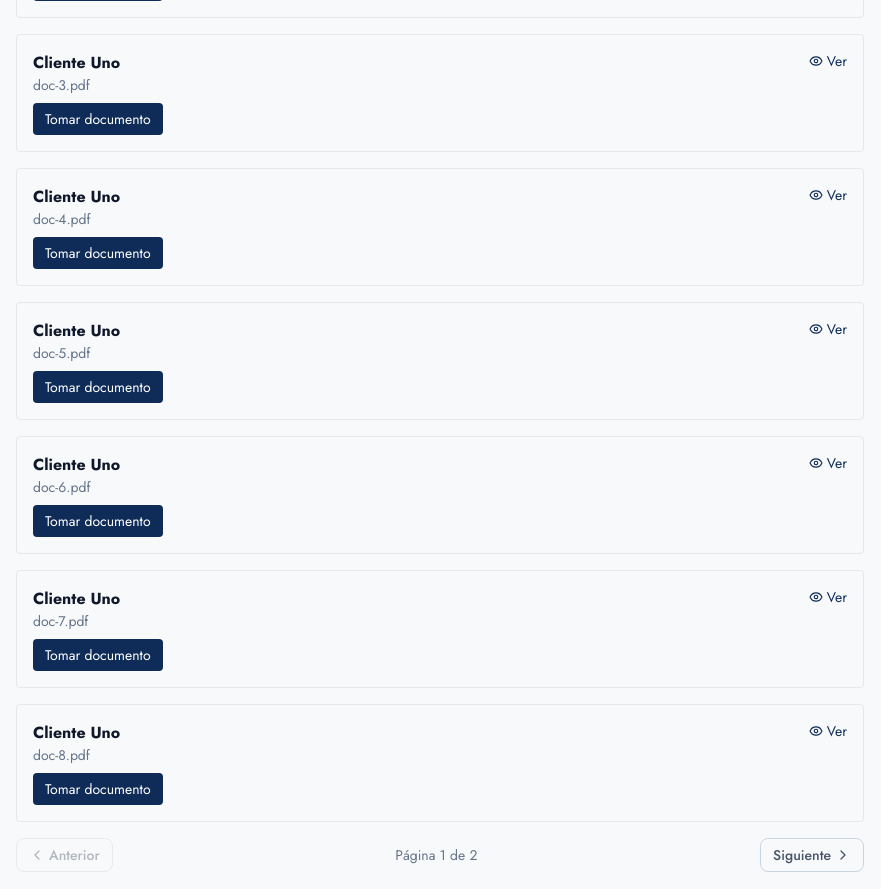
Test case: AgentDocumentsPanel › pagina cuando hay más de 8 documentos
(page scrolled)
expect the text "doc-9.pdf" is not shown: met
Click the button "Siguiente" at point(812, 855), box [760,838,864,872]
(page scrolled)
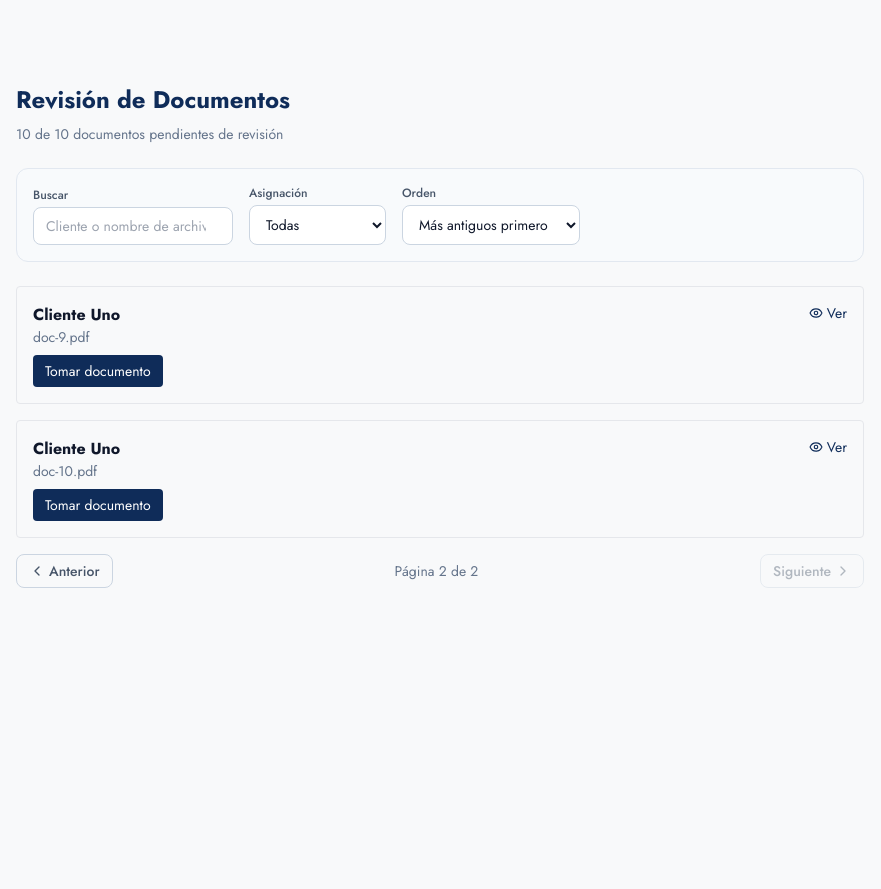
expect the text "doc-9.pdf" is shown: met, box [33,327,90,347]
